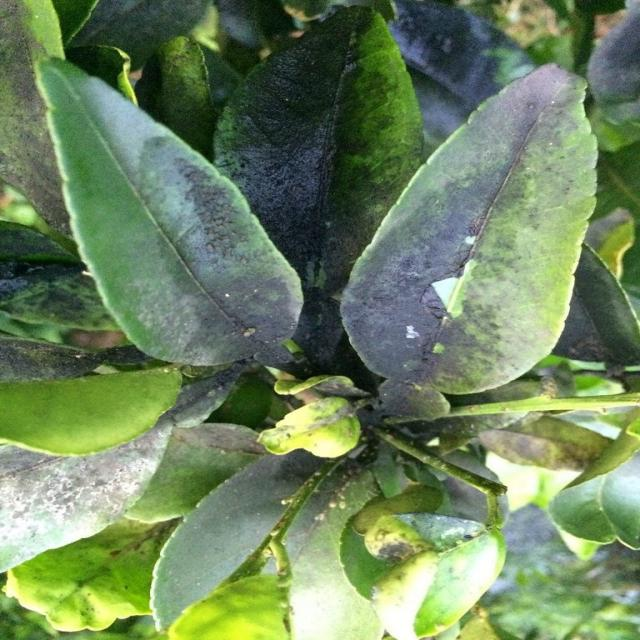Sooty Mold: (3, 3, 634, 638)
